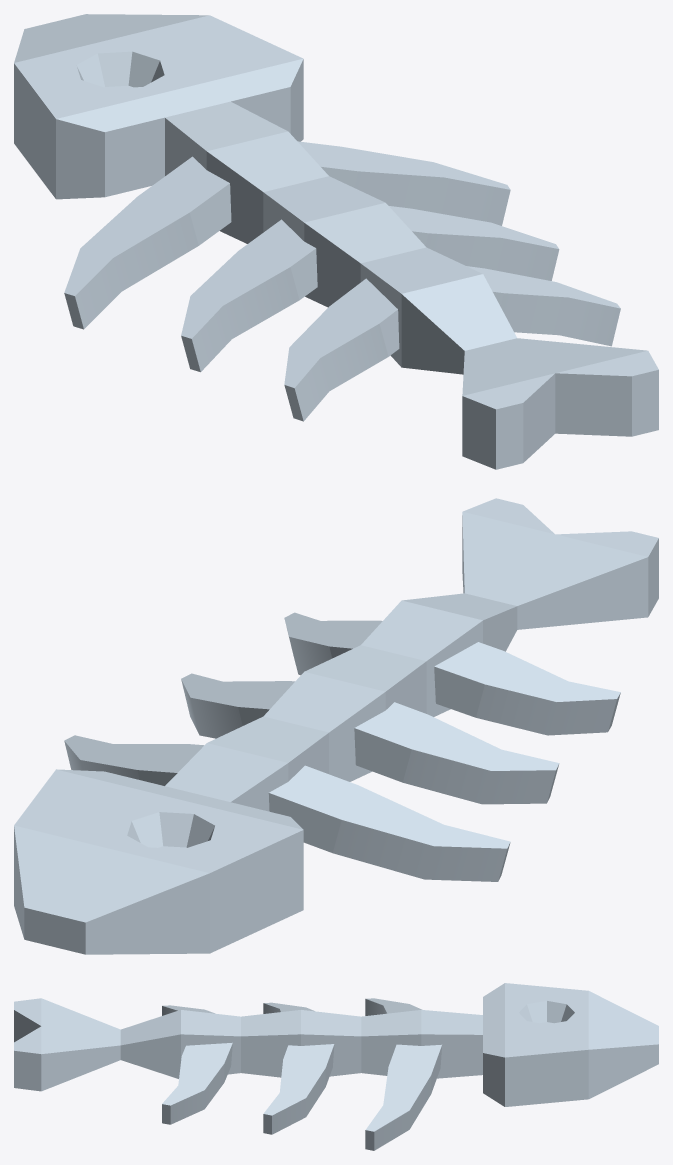
Rendered from fishBones.dae.
3 views of the same model, one above another, from view 1: azimuth 30°, elevation 25°; view 2: azimuth 150°, elevation 25°; view 3: azimuth 270°, elevation 25° (orthographic). The views are drawn at different scales.
Visible parts, largest first — view 1: fishBones; view 2: fishBones; view 3: fishBones.
Part boxes in pixels (box(x1,y1,x2,y2)): fishBones: box(14, 14, 658, 469); fishBones: box(14, 498, 658, 954); fishBones: box(14, 983, 658, 1150).
Bounding box in the file's own units: 0.3113 × 0.0726 × 0.6358.
